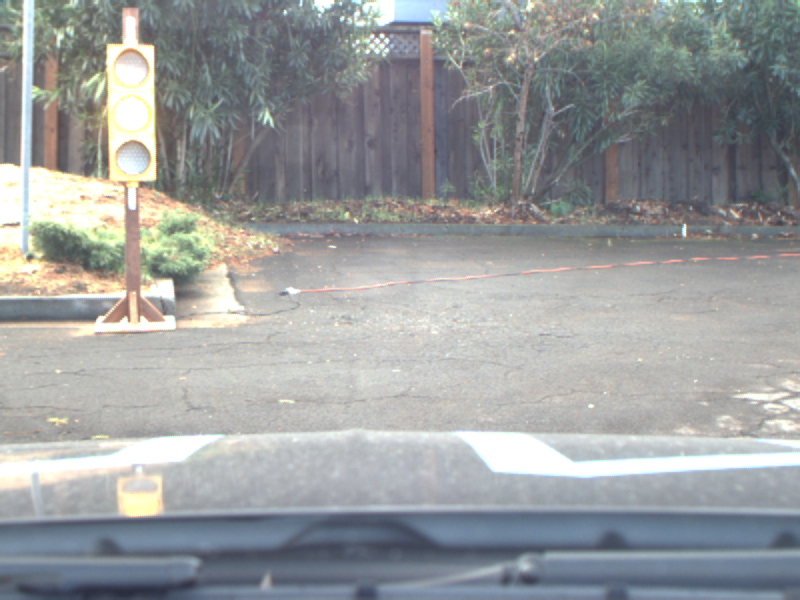Yellow: (107, 43, 155, 181)
